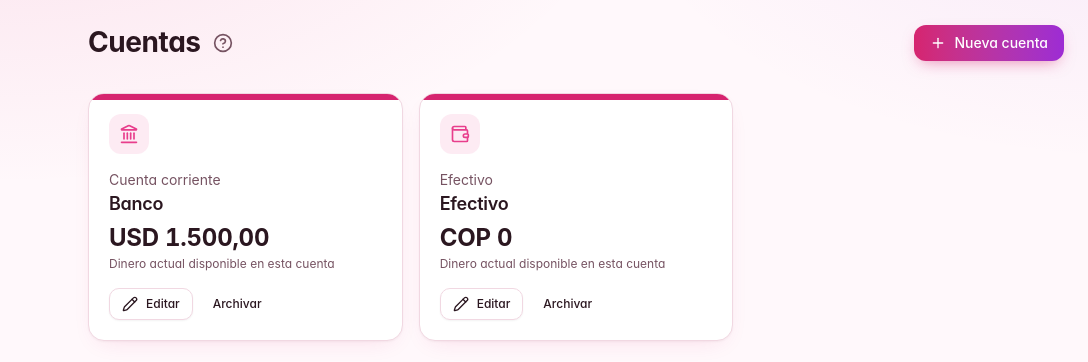
Test: Accounts — ayuda de la pantalla (M18) › el «?» junto al título explica la pantalla
Click the button named "Ayuda: Cuentas".
click(223, 43)  # box [205,25,241,61]
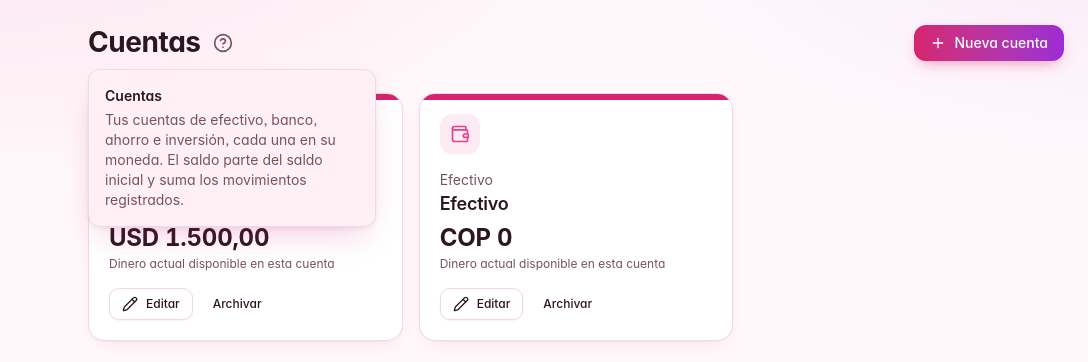
Expected: the element "Cuentas" shows "Tus cuentas de efectivo, banco, ahorro e inversión, cada una en su moneda. El saldo parte del saldo inicial y suma los movimientos registrados.", [105,111,336,208]
